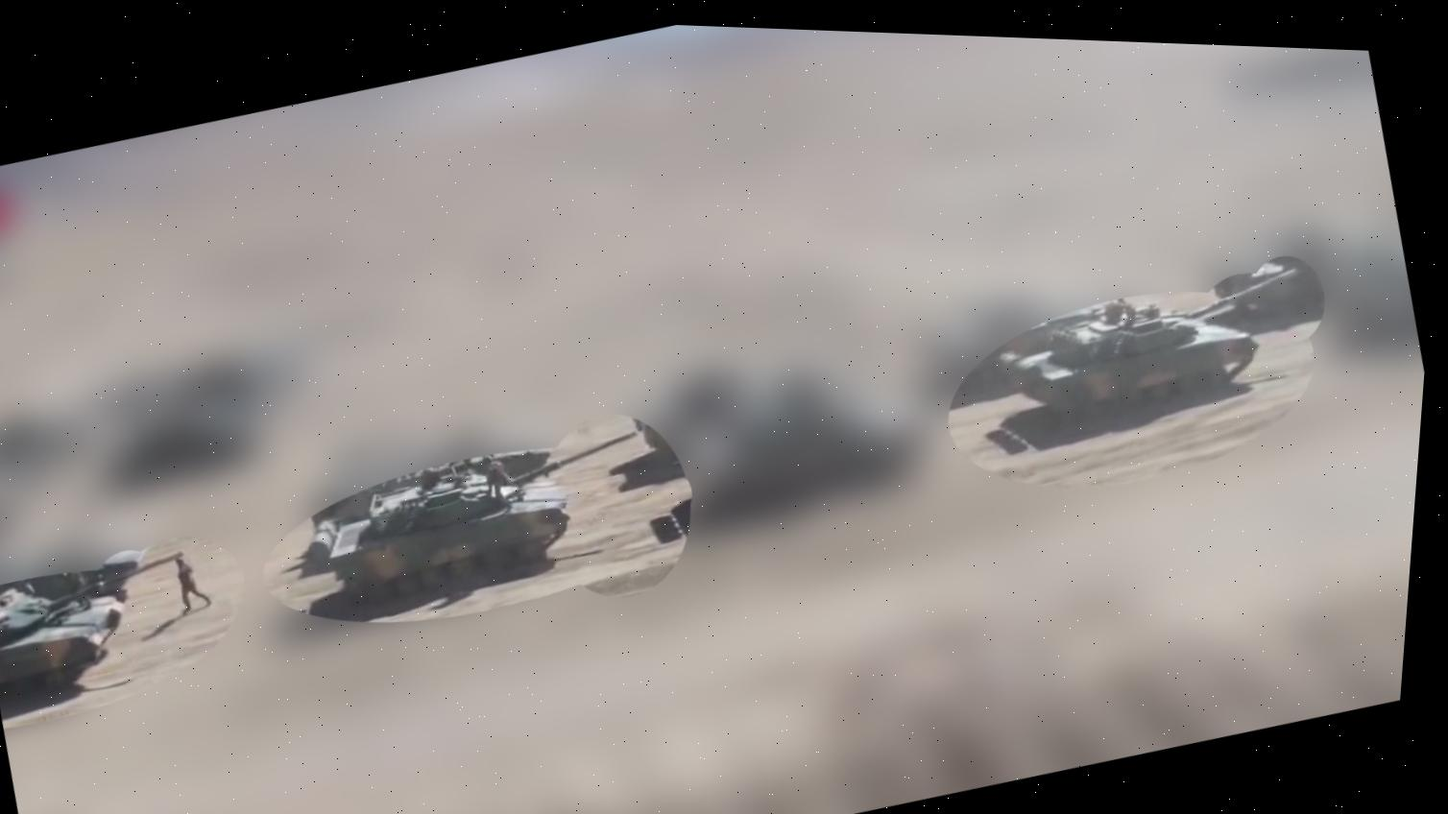tank: (289, 413, 670, 634), (982, 250, 1332, 456), (0, 532, 216, 714)
